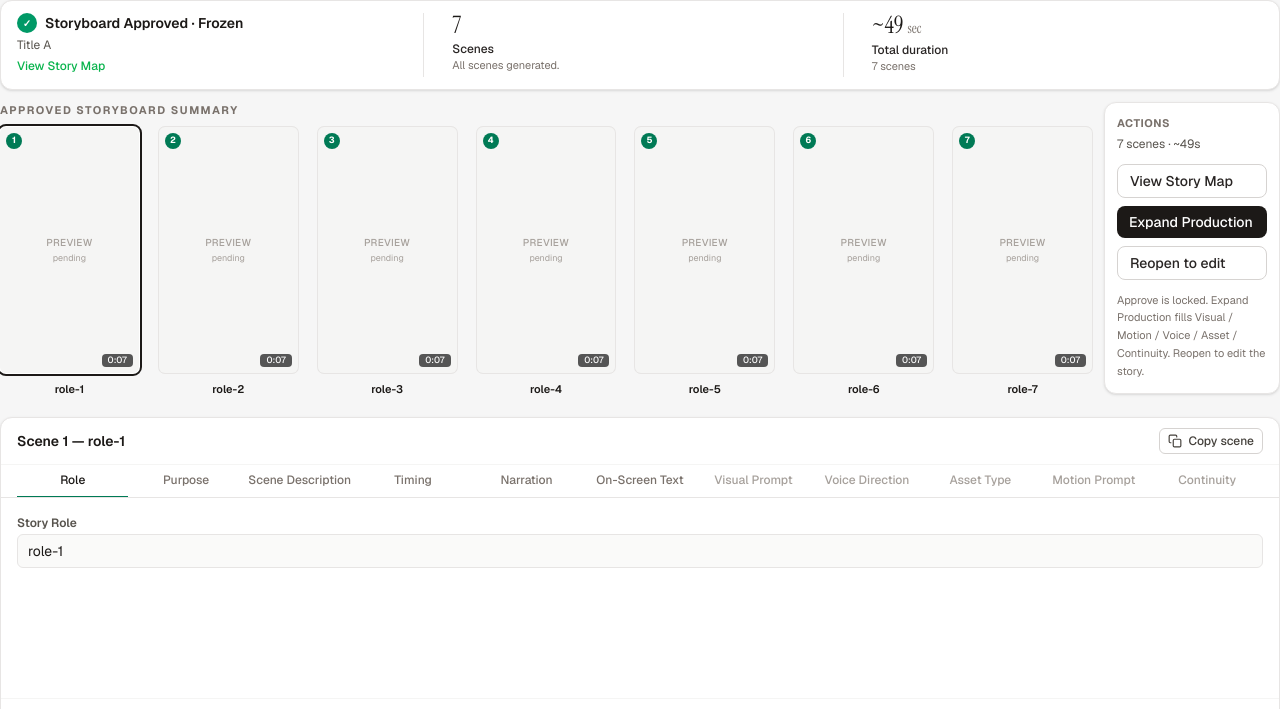
Test case: storyboard workspace UI › approved storyboard disables P1B field inputs
Expected: the field labelled "Story Role" is disabled, [17,534,1263,568]
Click the tab "Narration". click: (527,481)
box: [471,465,582,498]
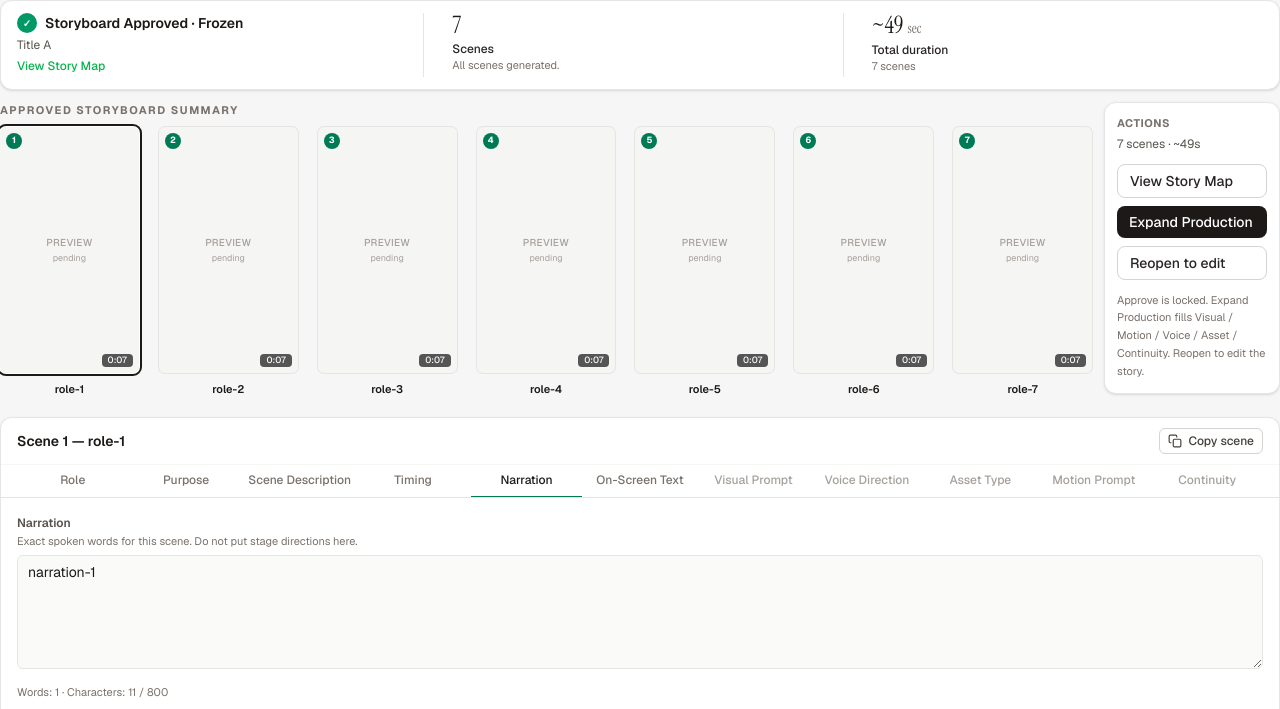
Expected: the text box is disabled, [17,555,1263,669]
